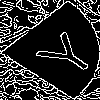Y: (25, 24, 100, 80)
